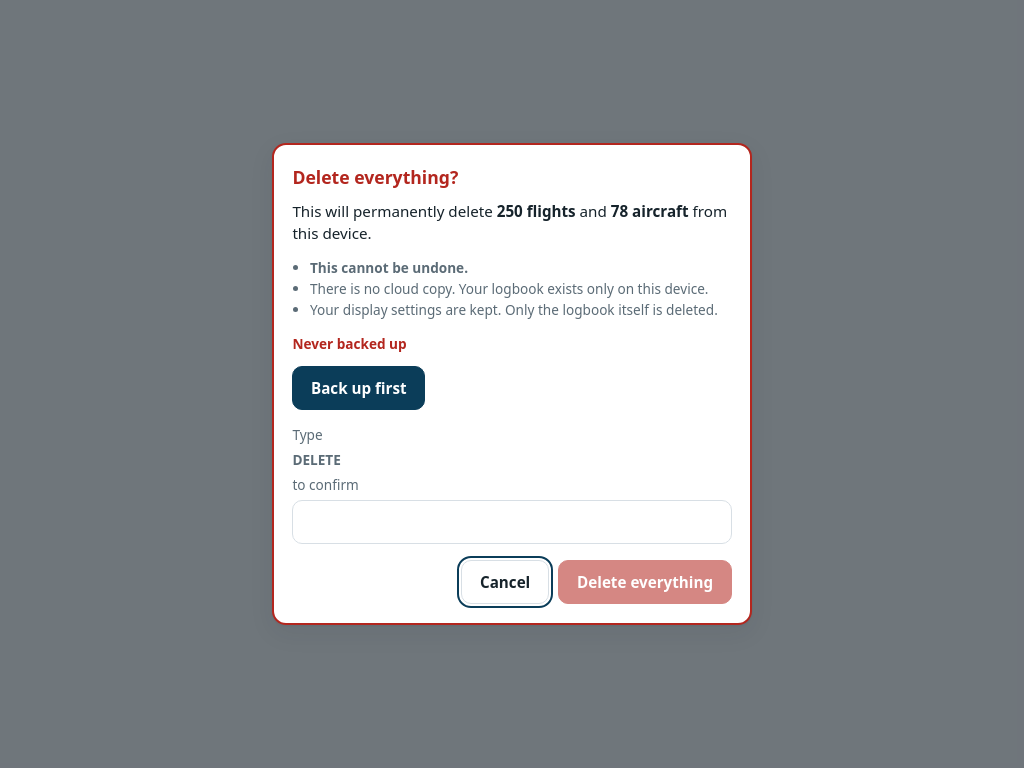
it: the typed gate › keeps the delete button disabled until the word is typed
This screenshot has width=1024, height=768.
Expected: the button "Delete everything" is disabled, [558,560,732,604]
Type "DELET" into the field labelled "Type DELETE to confirm". click: point(512, 522)
box: [292,500,732,544]
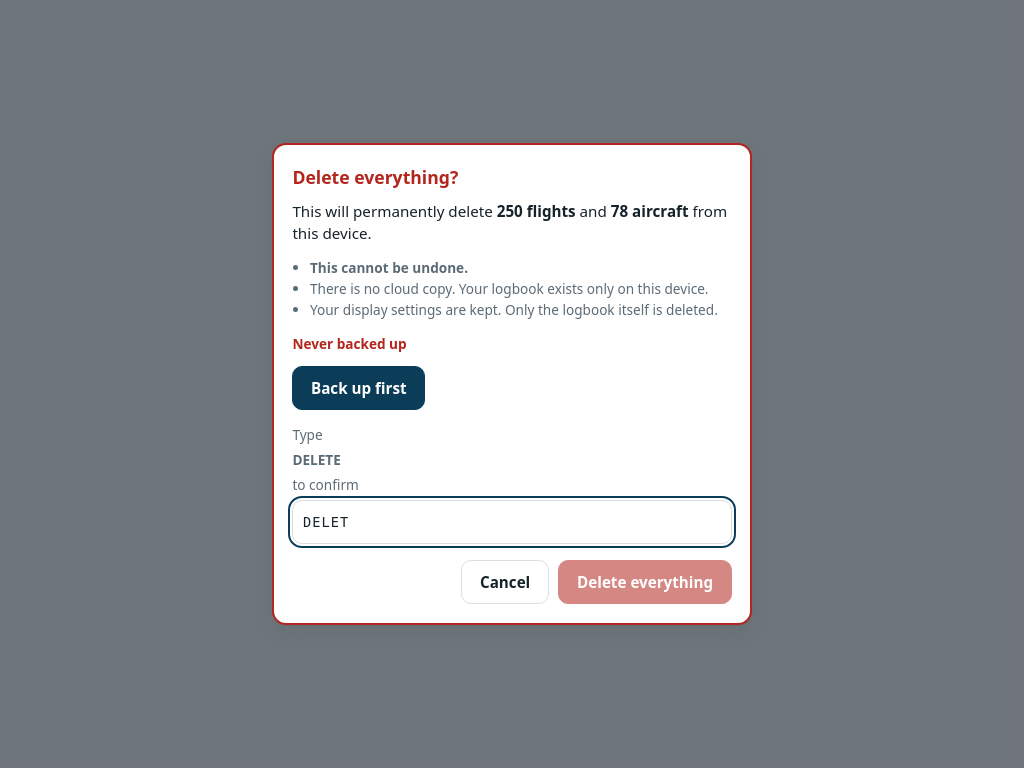
Expected: the button "Delete everything" is disabled, [558,560,732,604]
Type "E" into the field labelled "Type DELETE to confirm". click: point(512, 522)
box: [292,500,732,544]
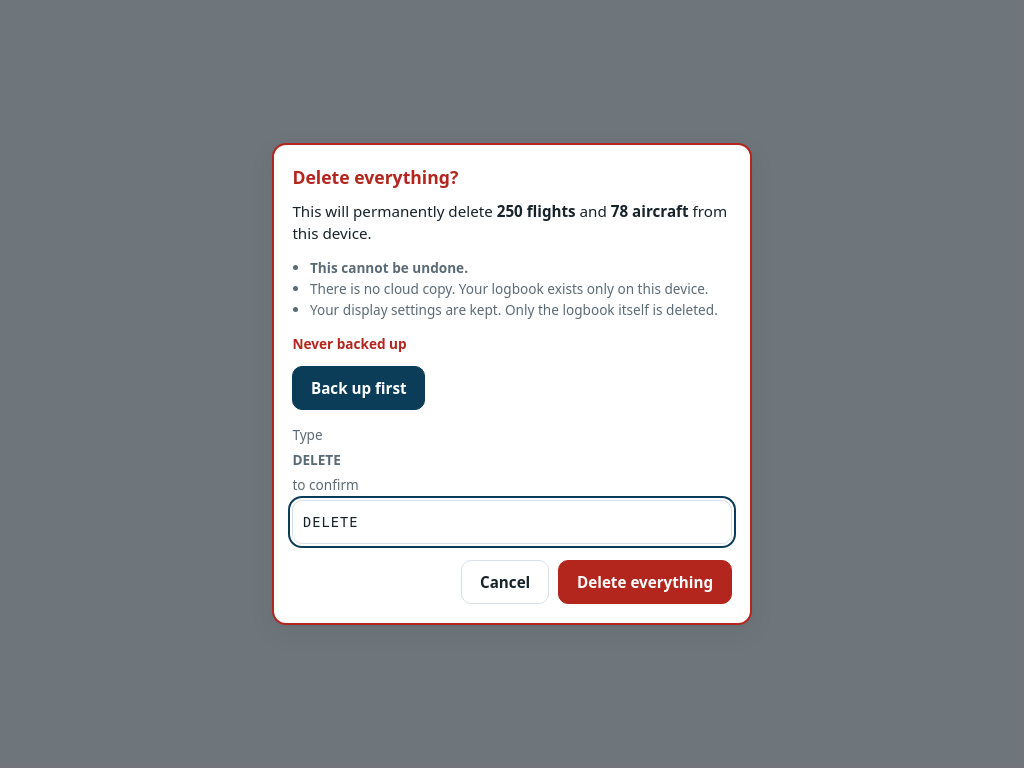
Expected: the button "Delete everything" is enabled, [558,560,732,604]
